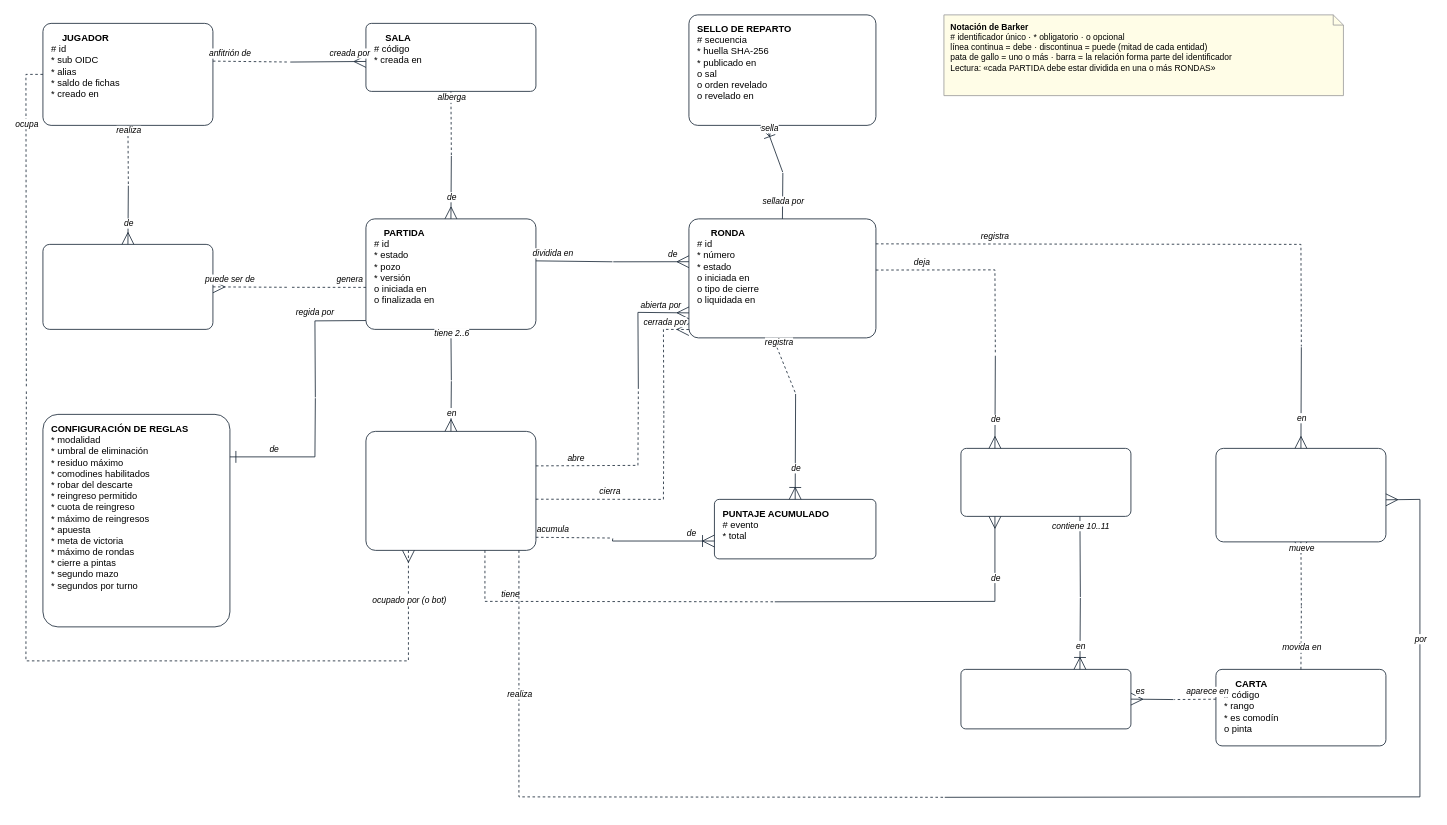
Some shapes in this 1447 by 825 pixel diagram are drawn without their labels. Here are the shapes that lost their labels. From the top down, the centre of each, then its label:
At pixel 127 286: "MOVIMIENTO DE FICHAS # id * tipo * monto * registrado en".
At pixel 450 490: "PARTICIPANTE # id * asiento * estado * reingresos * es ganador o alias de bot".
At pixel 1045 482: "MANO DE JUGADOR # id * puntos de la ronda * es quien cierra".
At pixel 1300 495: "TURNO / JUGADA # id * número de turno * secuencia * acción * ocurrida en".
At pixel 1045 699: "CARTA EN MANO # posición o combinación".
